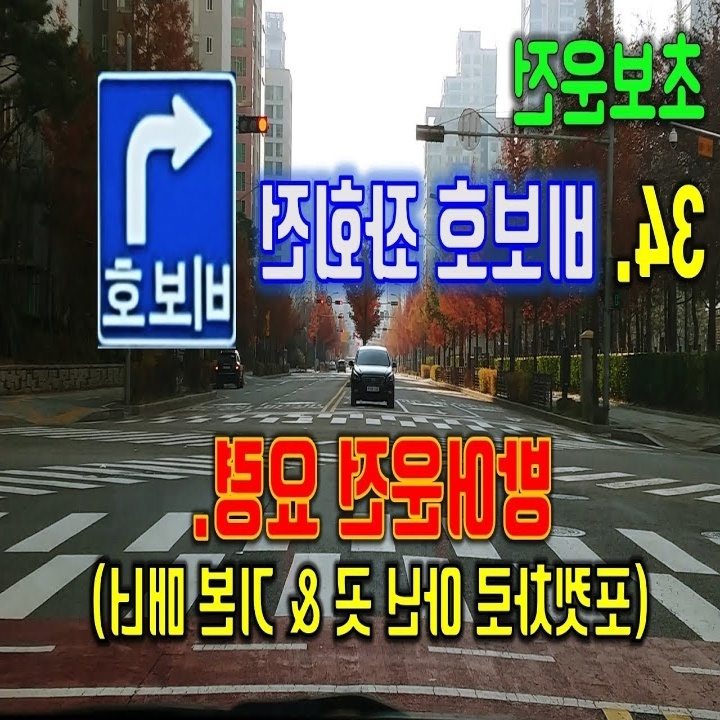right: (120, 85, 218, 250)
